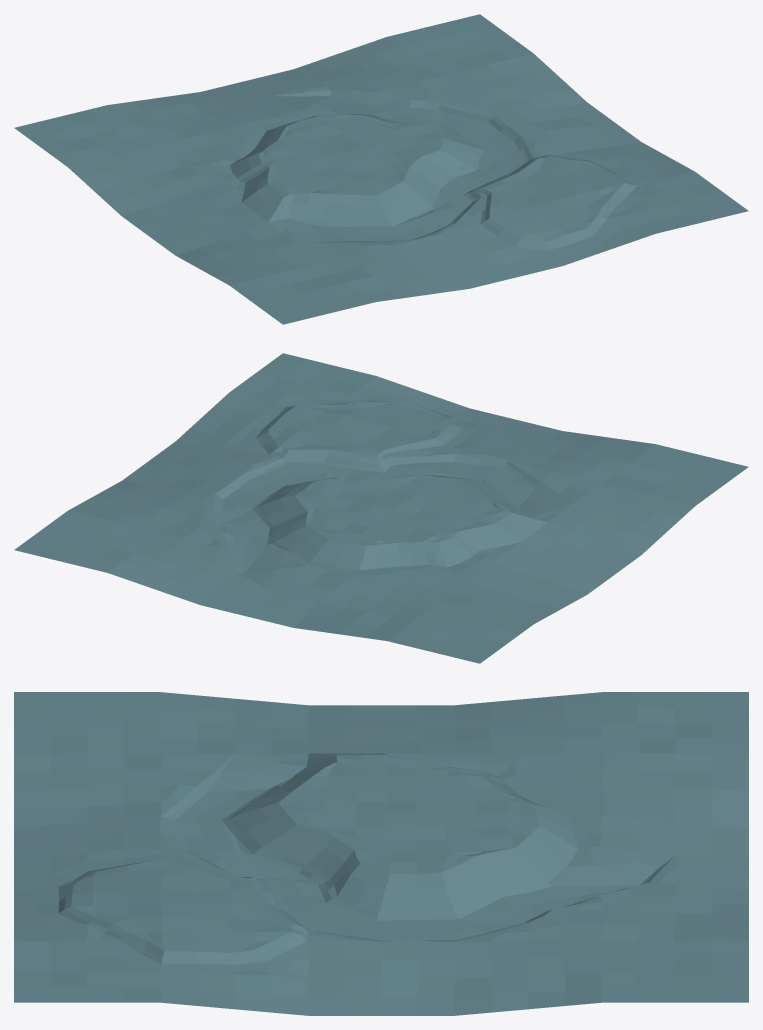
File: Terrain_b_ice.FBX
3 renders of one model, top to bottom at view 1: azimuth 30°, elevation 25°; view 2: azimuth 150°, elevation 25°; view 3: azimuth 270°, elevation 25°, orthographic. The views are drawn at different scales.
Parts seen in each view (by area): view 1: Terrain_b_ice; view 2: Terrain_b_ice; view 3: Terrain_b_ice.
Boxes of the visible parts, <box> form: Terrain_b_ice: <box>14,14,748,324</box>; Terrain_b_ice: <box>14,353,748,663</box>; Terrain_b_ice: <box>14,692,748,1015</box>.
Size of the model in its own units: 100 by 4.85 by 100.
